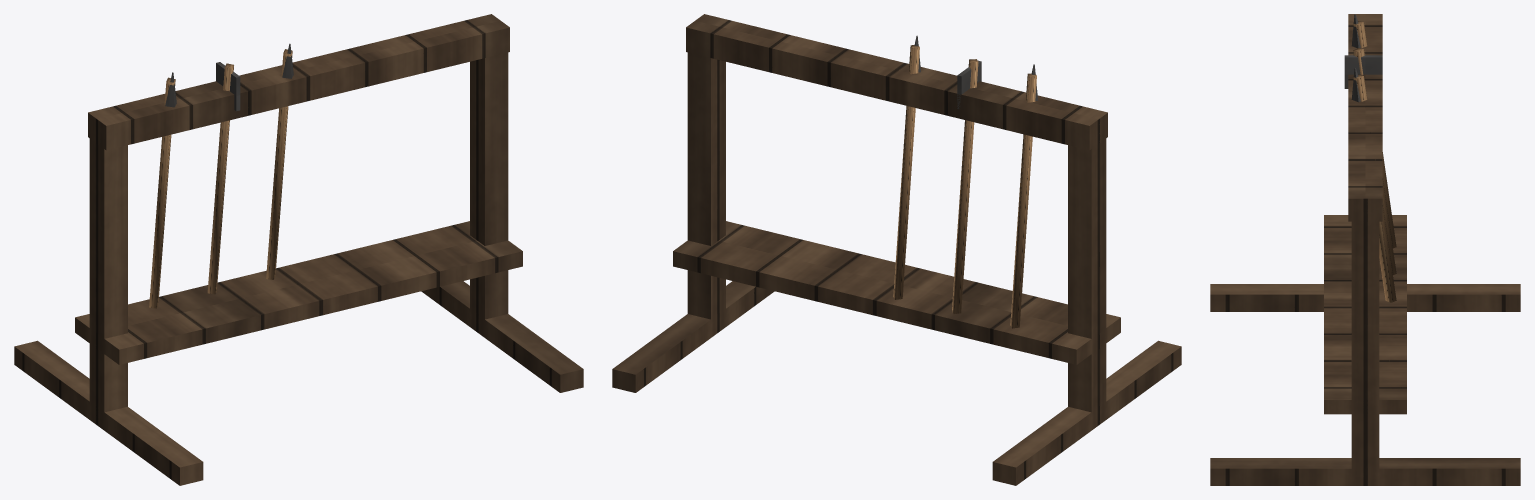
File: WeaponStand_LOD1.gltf
3 renders of one model, left to right at view 1: azimuth 30°, elevation 25°; view 2: azimuth 150°, elevation 25°; view 3: azimuth 270°, elevation 25°, orthographic. The views are drawn at different scales.
Visible parts, largest first — view 1: WeaponStand_LOD1; view 2: WeaponStand_LOD1; view 3: WeaponStand_LOD1.
Boxes of the visible parts, x1,y1,x2,y2 form: WeaponStand_LOD1: (14, 14, 583, 485); WeaponStand_LOD1: (612, 14, 1181, 485); WeaponStand_LOD1: (1210, 14, 1520, 485).
Size of the model in its own units: 1.38 by 1.11 by 0.98.
3 materials, 3 textured.
